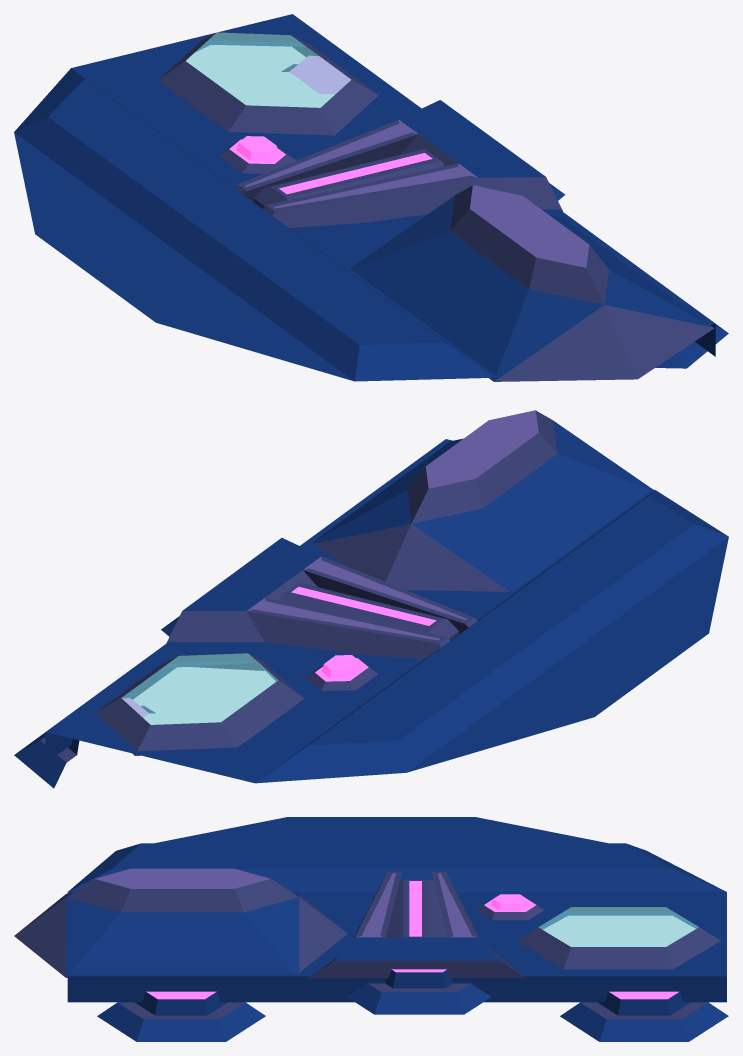
Rendered from portegauche_bleu_Mine 1.fbx.
The picture shows the model from 3 angles, top to bottom: view 1: azimuth 30°, elevation 25°; view 2: azimuth 150°, elevation 25°; view 3: azimuth 270°, elevation 25°; orthographic projection. The views are drawn at different scales.
Visible parts, largest first — view 1: Porte_droite.005; view 2: Porte_droite.005; view 3: Porte_droite.005.
Part boxes in pixels (x1,y1,x2,y2): Porte_droite.005: (14, 14, 728, 381); Porte_droite.005: (14, 410, 728, 788); Porte_droite.005: (14, 817, 728, 1041).
Size of the model in its own units: 123 by 31.2 by 205.
